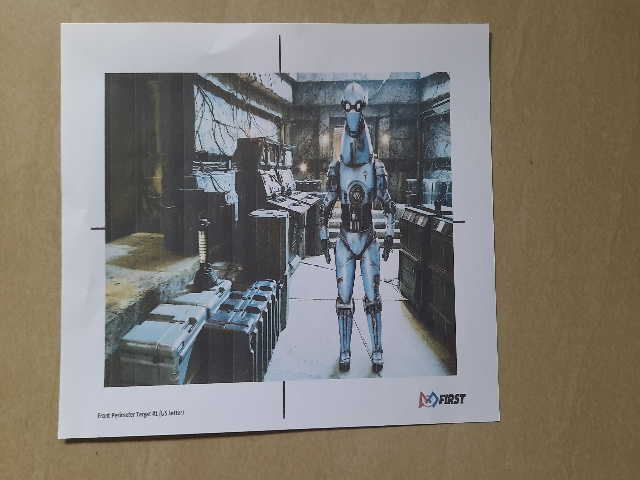fpt1: (70, 39, 487, 422)
